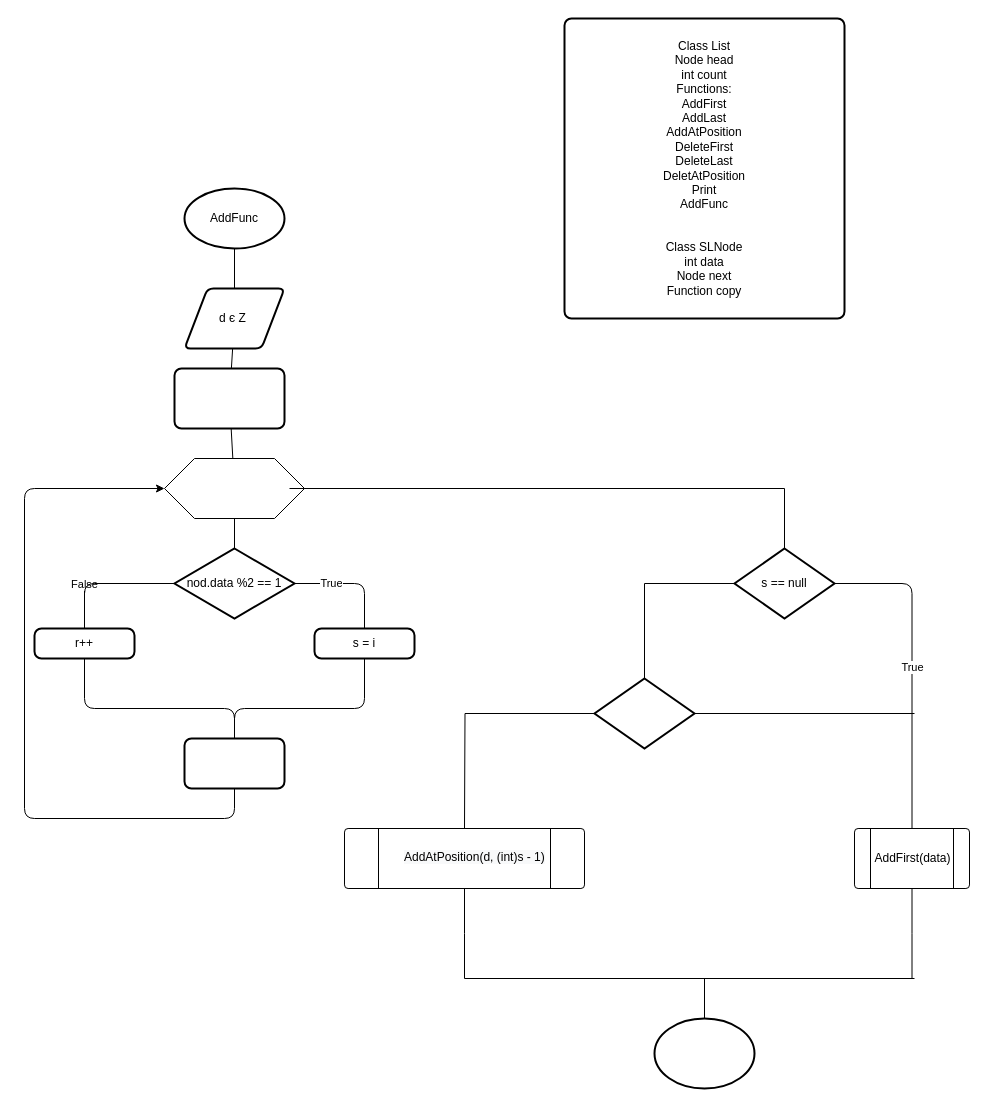
This 987x1106 diagram has some shape labels left out. Each missing label, with the box of its shape:
end: (653, 1017, 755, 1089)
i = 0; i < count; i++: (164, 458, 304, 518)
nod = nod.Next: (183, 737, 285, 789)
r==0: (593, 677, 695, 749)
s є Z || null s = null SLNode nod = head: (173, 367, 285, 429)
